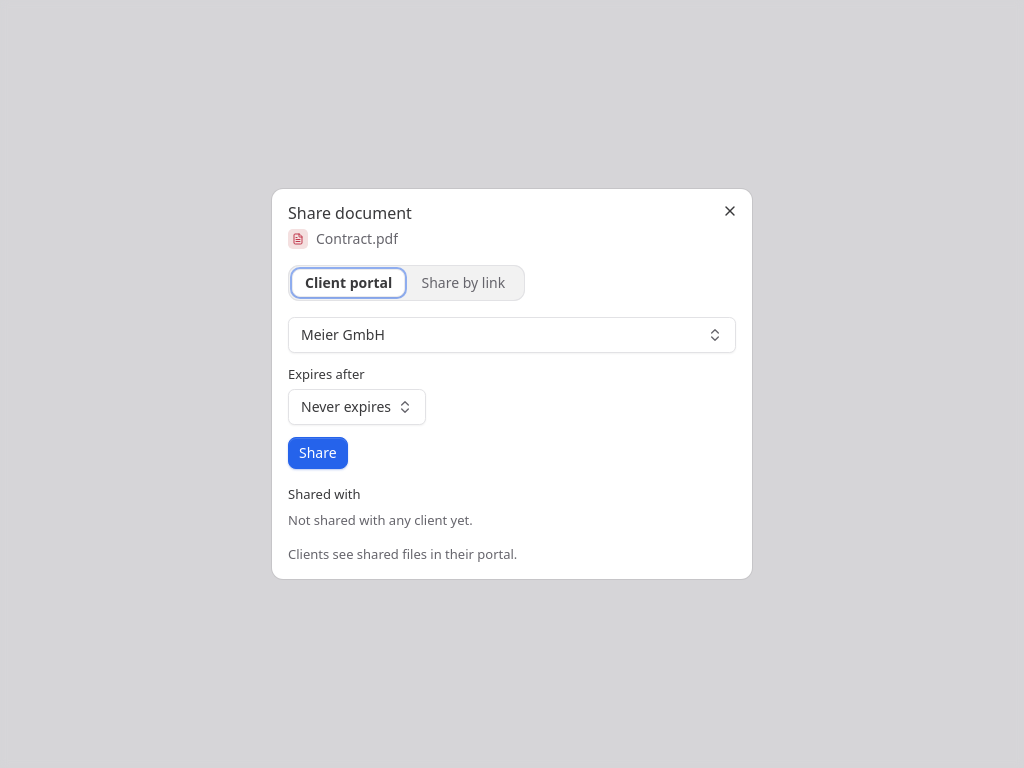
Test: ShareDialog › preselects the linked client and shares with it
This screenshot has width=1024, height=768.
Click the button "Share".
click(318, 453)  # box [288,437,348,469]
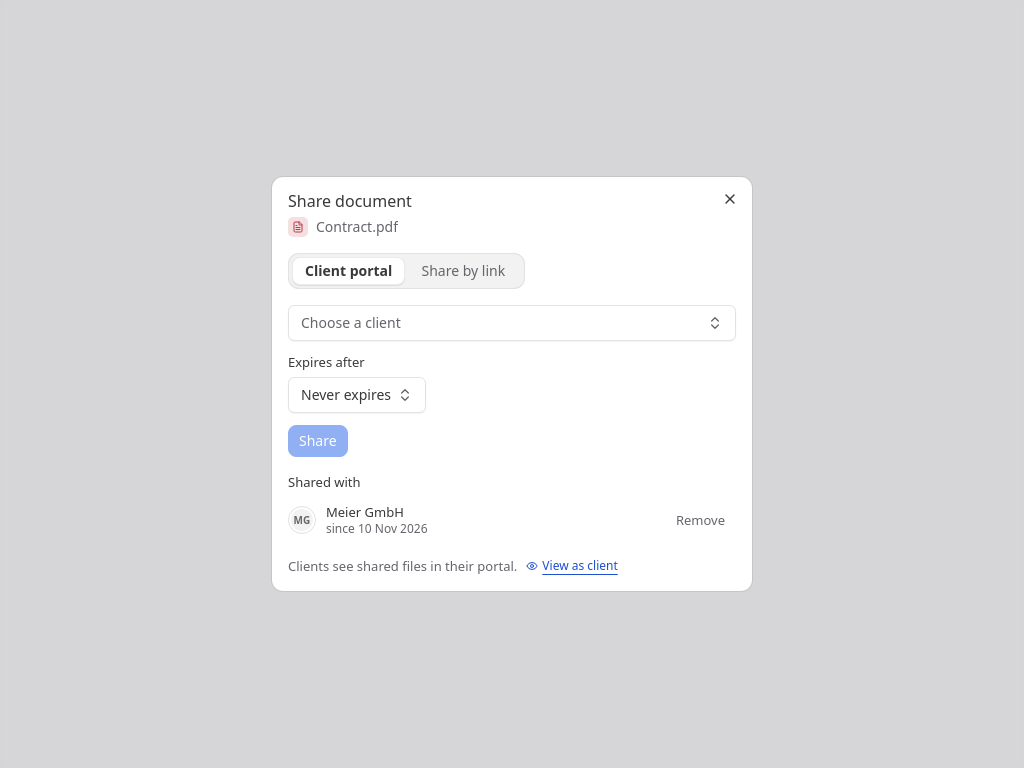
Result: the button with aria-label "Remove Meier GmbH" is enabled at [665,506,736,534]
